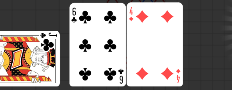4D: (174, 67, 181, 83)
5C: (70, 6, 78, 23)
